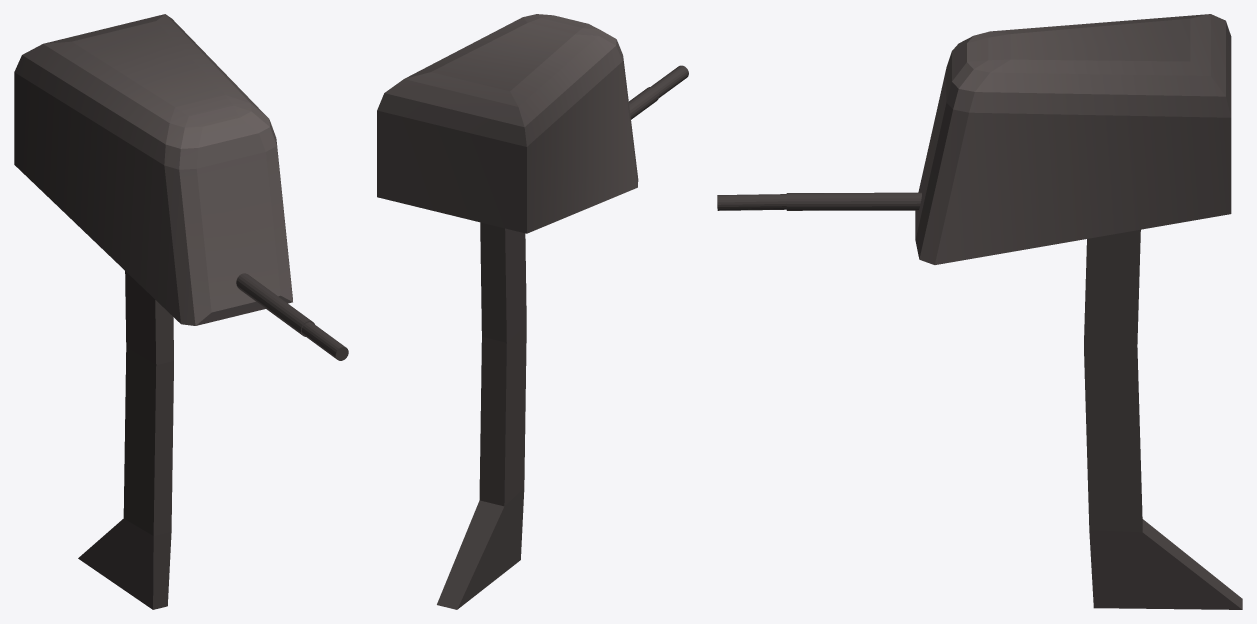
File: Engine.fbx
3 views of the same model, side by side, from view 1: azimuth 30°, elevation 25°; view 2: azimuth 150°, elevation 25°; view 3: azimuth 270°, elevation 25° (orthographic). The views are drawn at different scales.
Visible parts, largest first — view 1: Engine; view 2: Engine; view 3: Engine.
Boxes of the visible parts, x1,y1,x2,y2 form: Engine: [14, 14, 348, 609]; Engine: [377, 14, 688, 609]; Engine: [717, 14, 1242, 609].
Size of the model in its own units: 35.93 by 117 by 98.32.
